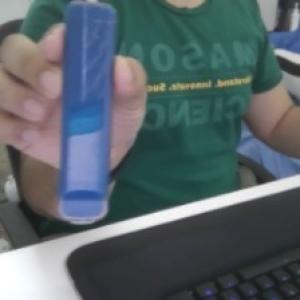Diamond-E-Ciggirate: (56, 2, 120, 228)
